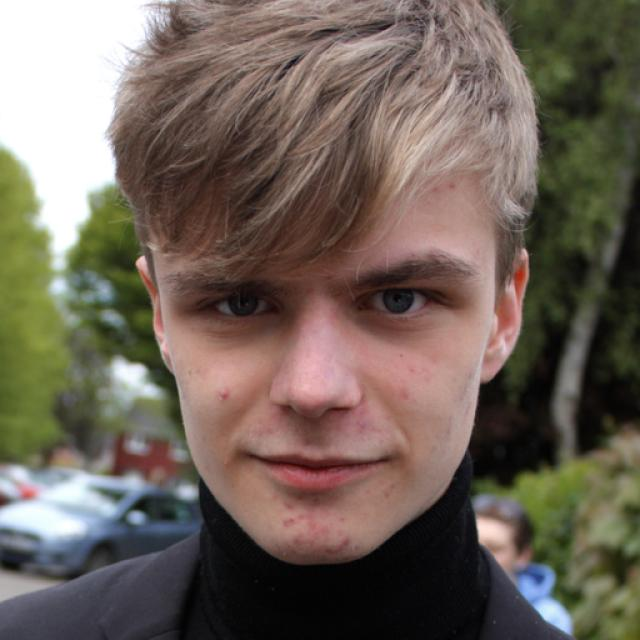Acne: (206, 384, 236, 405)
